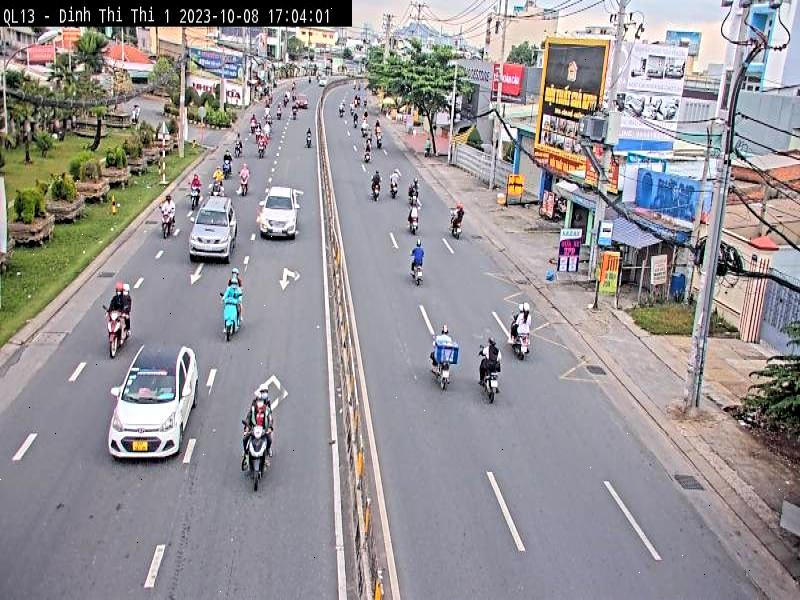car: (106, 340, 199, 466), (187, 194, 236, 264), (258, 183, 302, 239)
motorcycle: (241, 419, 274, 491), (222, 295, 242, 339), (104, 307, 123, 353), (517, 331, 530, 362)
